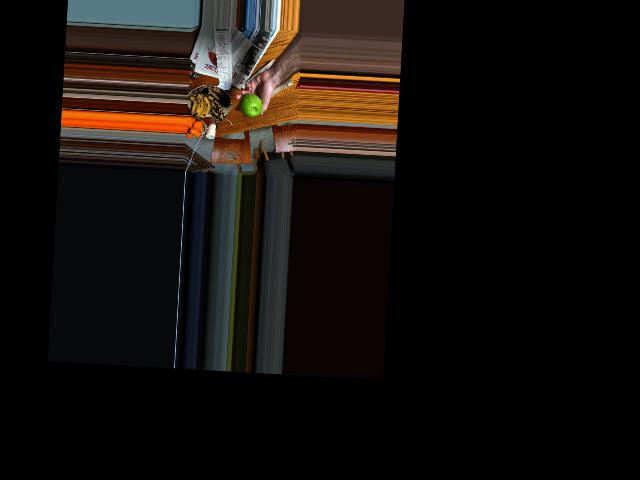apple: (238, 92, 263, 117)
